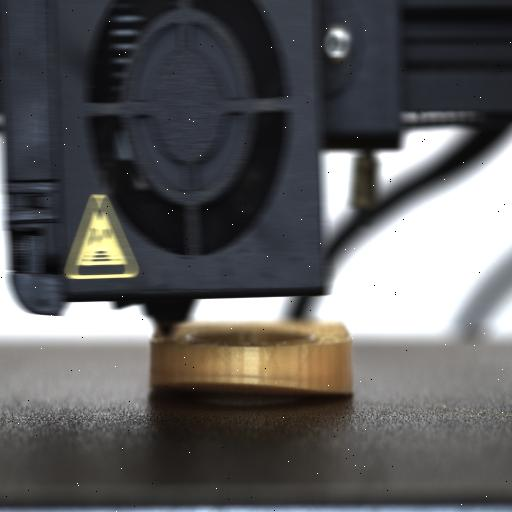warp: (150, 373, 352, 405)
